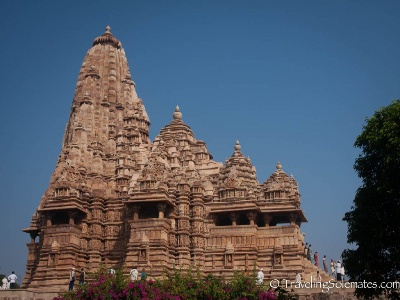amalaka: (83, 30, 134, 49)
gopuram: (48, 49, 164, 189)
mandapa: (33, 192, 95, 239), (198, 196, 262, 241), (120, 194, 186, 229), (255, 197, 316, 230)
